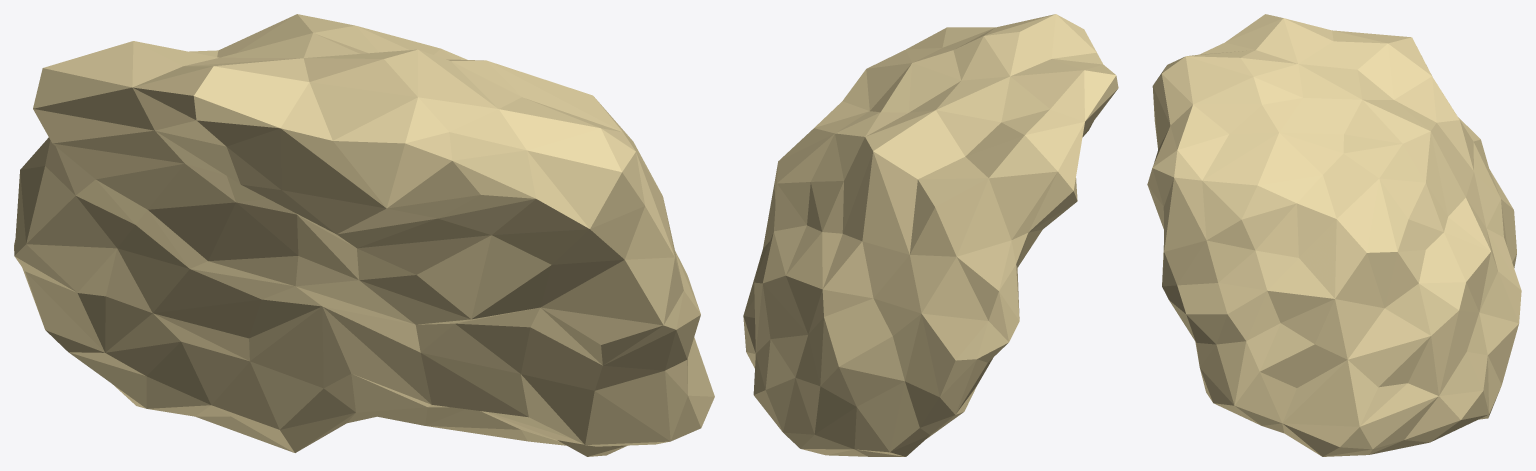
Rendered from Asteroid (51).fbx.
3 views of the same model, side by side, from view 1: azimuth 30°, elevation 25°; view 2: azimuth 150°, elevation 25°; view 3: azimuth 270°, elevation 25° (orthographic). The views are drawn at different scales.
Visible parts, largest first — view 1: Asteroid187; view 2: Asteroid187; view 3: Asteroid187.
Part boxes in pixels (x1,y1,x2,y2): Asteroid187: [14, 14, 714, 456]; Asteroid187: [743, 14, 1118, 456]; Asteroid187: [1147, 14, 1521, 456].
Bounding box in the file's own units: 333 × 315 × 323.
